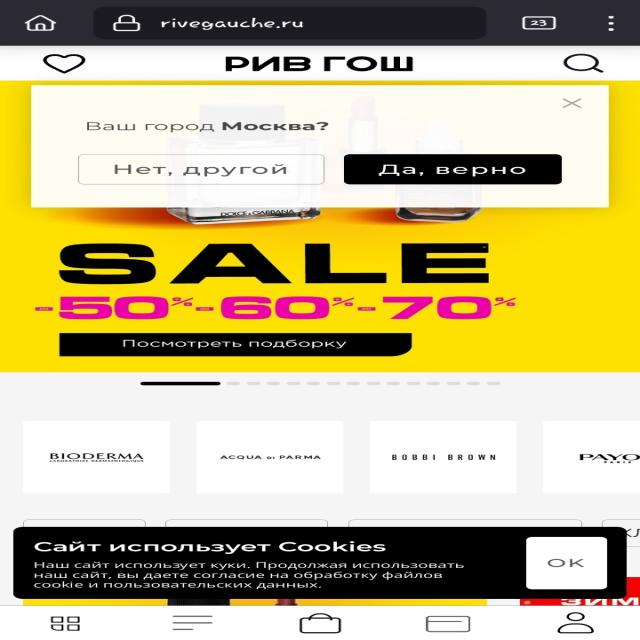button: (78, 155, 324, 184), (345, 153, 562, 184), (524, 537, 608, 590), (555, 96, 590, 111)
site: (33, 87, 608, 208), (15, 527, 628, 598), (14, 528, 628, 598)
